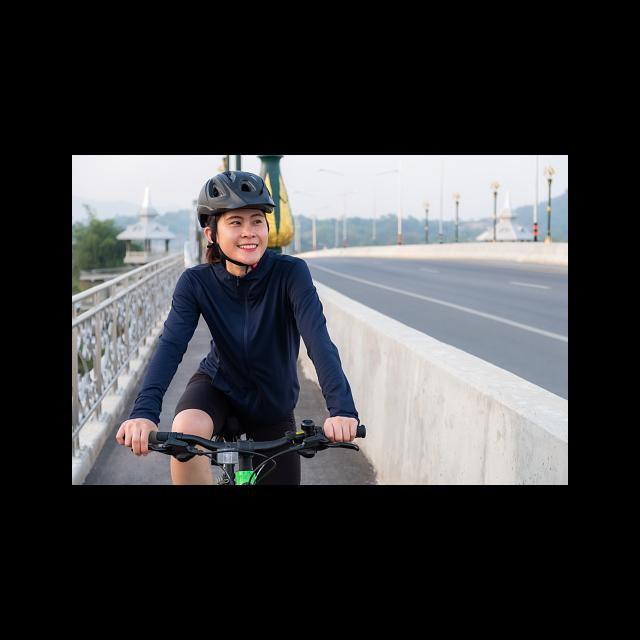female: (172, 181, 316, 277)
